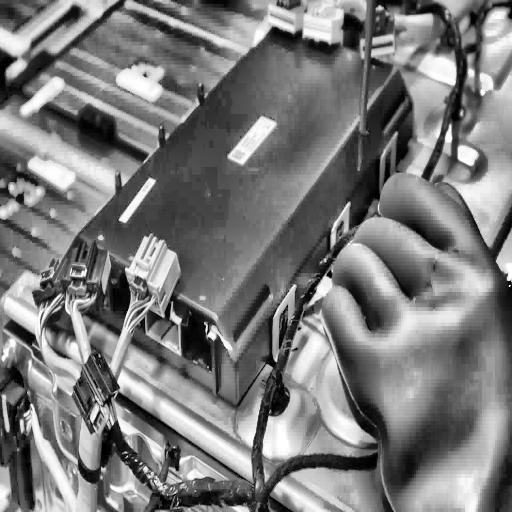bms_unit: (60, 15, 416, 409)
high_volt_cable: (2, 233, 184, 512)
low_volt_cable: (66, 0, 512, 512)
